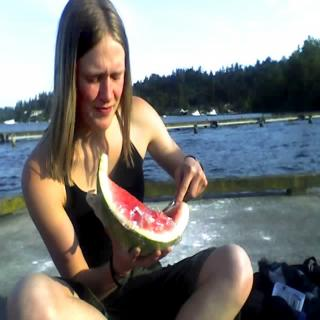Watermelon: (96, 154, 191, 259)
